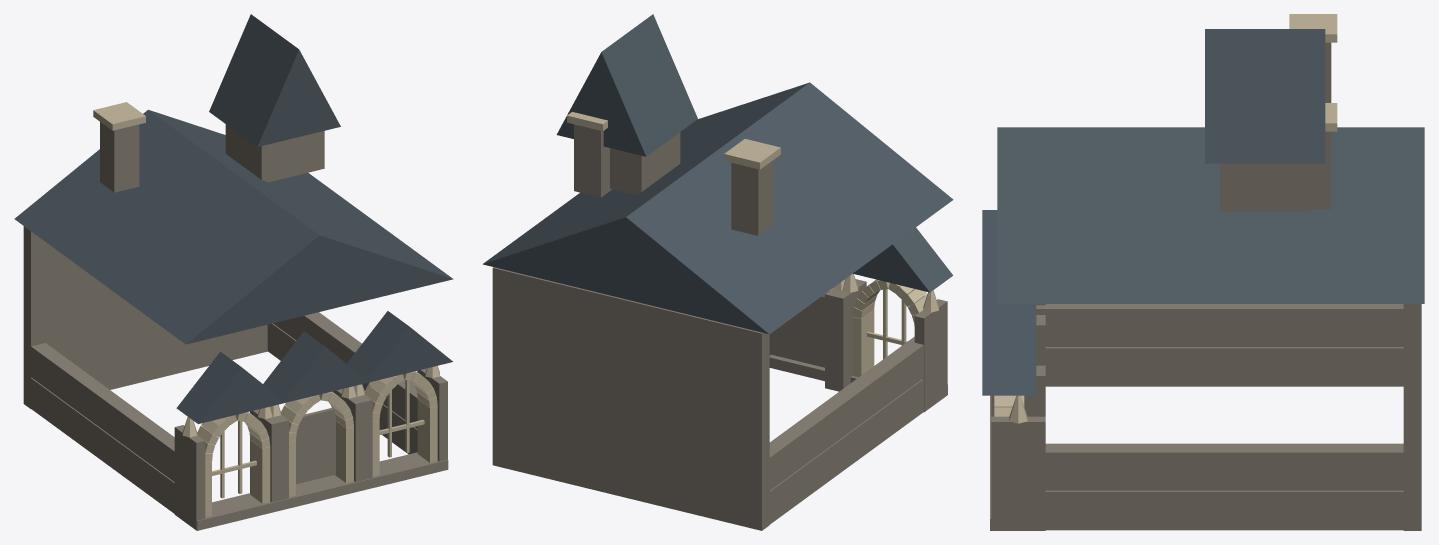
The model's file is HeartHouseB_LOD2.fbx.
3 views of the same model, side by side, from view 1: azimuth 30°, elevation 25°; view 2: azimuth 150°, elevation 25°; view 3: azimuth 270°, elevation 25° (orthographic). The views are drawn at different scales.
Parts seen in each view (by area): view 1: HeartHouseB_LOD2; view 2: HeartHouseB_LOD2; view 3: HeartHouseB_LOD2.
Part boxes in pixels (box(x1,y1,x2,y2)): HeartHouseB_LOD2: box(14, 14, 453, 530); HeartHouseB_LOD2: box(483, 14, 953, 530); HeartHouseB_LOD2: box(982, 14, 1424, 530).
Size of the model in its own units: 1280 by 1700 by 1470.
